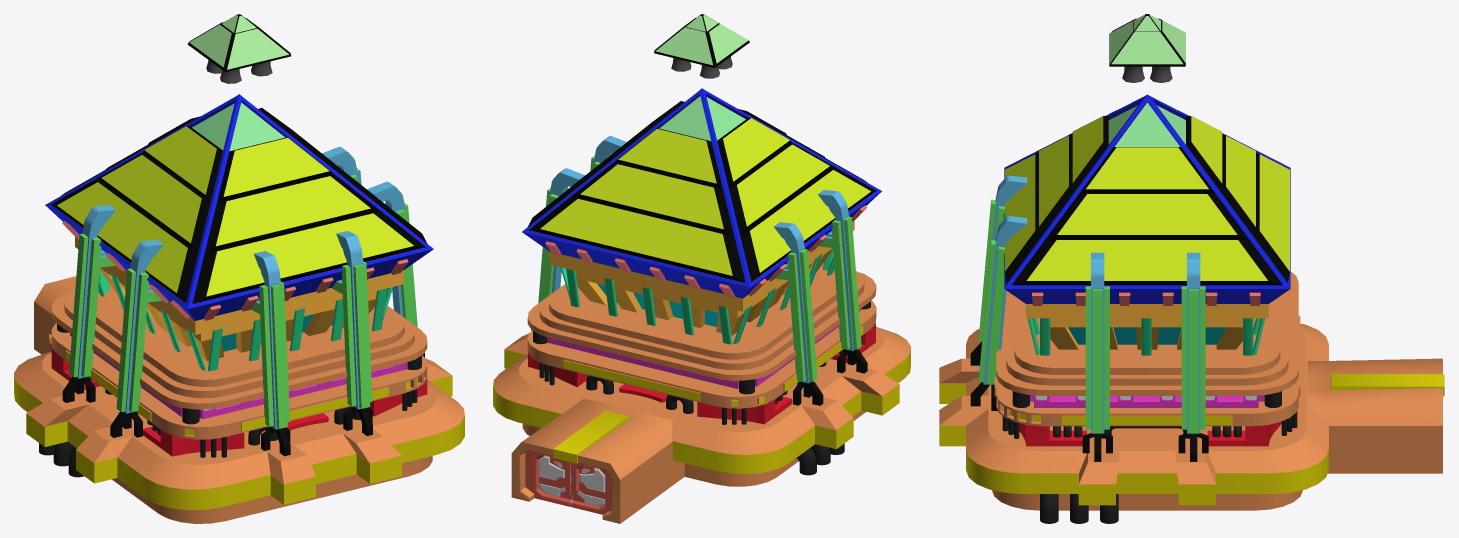
The model's file is GGzdanie (1).fbx.
The picture shows the model from 3 angles, left to right: view 1: azimuth 30°, elevation 25°; view 2: azimuth 150°, elevation 25°; view 3: azimuth 270°, elevation 25°; orthographic projection. The views are drawn at different scales.
Visible parts, largest first — view 1: Cube, Cube.009, Cube.012, Cube.019, Cube.011, Cube.016, Cube.005, Cube.013, Cube.001, Cube.007, Cube.021, Cube.004 (+10 smaller); view 2: Cube, Cube.009, Cube.012, Cube.021, Cube.019, Cube.011, Cube.005, Cube.013, Cube.020, Cube.001, Cube.007, Cube.004 (+9 smaller); view 3: Cube, Cube.012, Cube.009, Cube.021, Cube.011, Cube.019, Cube.005, Cube.016, Cube.013, Cube.001, Cube.003, Cylinder (+5 smaller).
Boxes of the visible parts, <box> form: Cube: <box>14,284,464,523</box>; Cube.009: <box>61,116,425,303</box>; Cube.012: <box>51,108,427,302</box>; Cube.019: <box>69,146,417,413</box>; Cube.011: <box>45,94,433,320</box>; Cube.016: <box>251,231,372,429</box>; Cube.005: <box>75,237,403,360</box>; Cube.013: <box>187,14,291,72</box>; Cube.001: <box>51,347,427,456</box>; Cube.007: <box>99,270,386,371</box>; Cube.021: <box>34,276,76,354</box>; Cube.004: <box>199,362,407,419</box>; Cube: <box>493,263,910,486</box>; Cube.009: <box>529,109,867,282</box>; Cube.012: <box>528,101,876,282</box>; Cube.021: <box>511,399,684,523</box>; Cube.019: <box>538,136,861,383</box>; Cube.011: <box>522,88,881,298</box>; Cube.005: <box>549,220,854,335</box>; Cube.013: <box>654,14,749,67</box>; Cube.020: <box>525,450,611,514</box>; Cube.001: <box>528,323,875,424</box>; Cube.007: <box>566,250,833,344</box>; Cube.004: <box>547,337,738,388</box>; Cube: <box>939,271,1328,510</box>; Cube.012: <box>1012,111,1282,285</box>; Cube.009: <box>1005,116,1289,282</box>; Cube.021: <box>1307,358,1444,473</box>; Cube.011: <box>1004,94,1290,303</box>; Cube.019: <box>1085,252,1205,433</box>; Cube.005: <box>1026,304,1268,349</box>; Cube.016: <box>978,175,1027,384</box>; Cube.013: <box>1109,14,1185,66</box>; Cube.001: <box>1019,421,1281,446</box>; Cube.003: <box>1033,395,1258,407</box>; Cylinder: <box>1040,494,1118,523</box>.
Size of the model in its own units: 1471 by 1679 by 1786.
